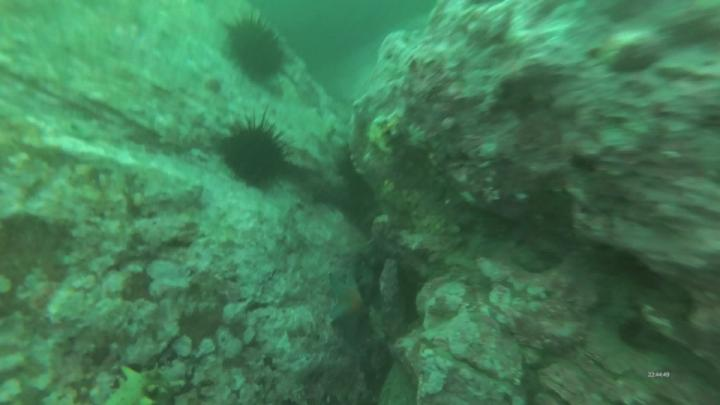echinus: (215, 117, 293, 196), (225, 16, 293, 89)
holothurian: (90, 366, 184, 405)
starfish: (324, 263, 377, 344)
